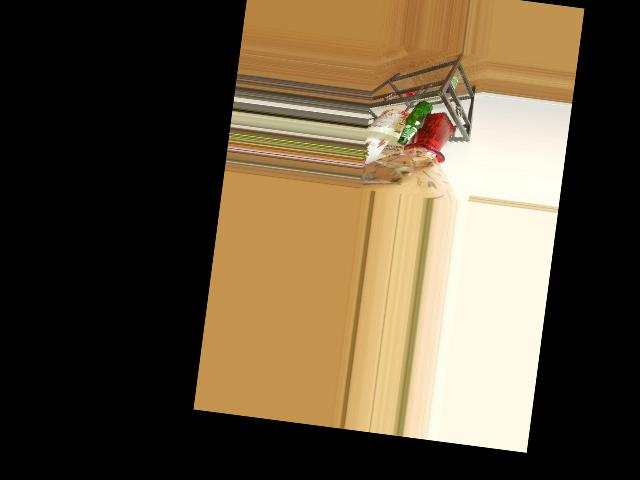beer: (397, 98, 433, 148)
